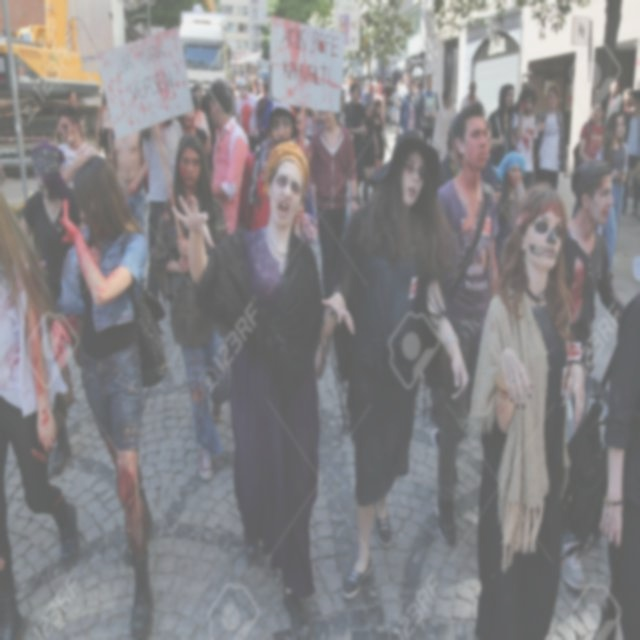pessoa: (172, 138, 356, 640), (313, 126, 472, 604), (48, 152, 170, 640), (464, 180, 588, 640), (0, 186, 81, 639), (432, 102, 500, 547), (560, 156, 626, 592), (151, 132, 230, 480), (13, 142, 88, 480), (590, 290, 640, 640), (456, 118, 501, 408), (236, 101, 314, 245), (308, 108, 359, 300), (140, 116, 183, 302), (206, 78, 251, 236), (596, 112, 630, 280), (108, 127, 150, 236), (494, 150, 526, 272), (534, 82, 568, 192), (56, 104, 100, 189), (486, 82, 518, 169), (512, 85, 537, 191), (348, 81, 368, 206), (622, 88, 640, 218), (294, 105, 317, 204), (435, 110, 463, 188), (179, 90, 210, 158), (578, 98, 606, 168), (361, 101, 380, 204), (235, 76, 260, 154), (418, 72, 440, 147), (369, 98, 391, 170), (435, 88, 455, 164), (95, 90, 116, 155), (398, 78, 420, 132), (290, 105, 312, 158), (198, 78, 216, 141), (192, 83, 210, 142), (68, 89, 88, 142), (257, 80, 274, 142), (618, 86, 636, 144), (604, 78, 625, 126), (458, 78, 486, 112), (334, 88, 353, 132), (391, 78, 404, 142), (382, 75, 394, 130), (394, 71, 410, 105), (255, 76, 265, 129), (514, 81, 528, 112), (340, 72, 354, 103), (227, 78, 239, 114), (360, 77, 373, 106), (390, 89, 398, 128), (244, 70, 255, 96), (373, 82, 385, 104), (448, 88, 458, 111), (374, 74, 384, 96), (337, 104, 347, 125), (370, 72, 378, 96), (192, 0, 206, 13), (626, 90, 632, 112), (353, 74, 362, 88), (415, 82, 421, 101), (264, 75, 270, 83)
